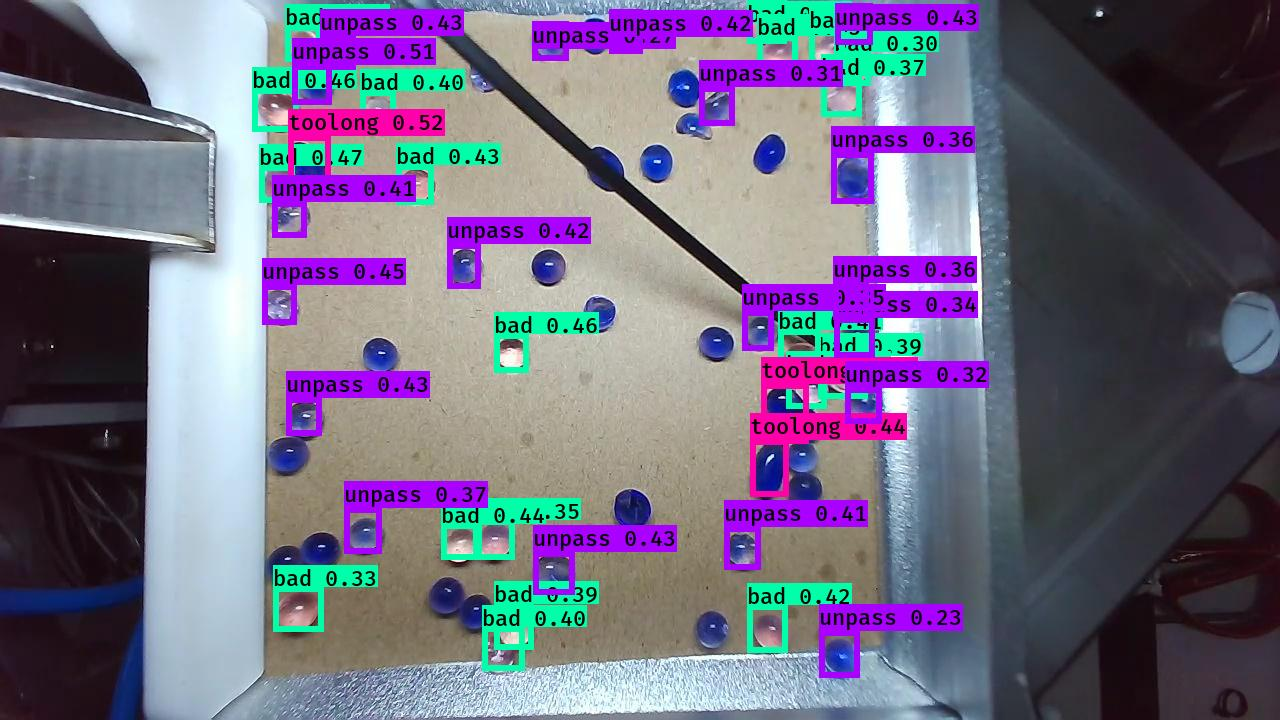bad: (272, 587, 320, 636), (254, 88, 302, 133), (756, 36, 801, 83), (745, 3, 786, 47), (258, 164, 301, 205), (749, 609, 790, 650), (477, 636, 518, 677), (285, 27, 325, 66), (397, 166, 436, 206), (475, 521, 513, 562), (493, 336, 530, 378), (832, 52, 873, 89), (358, 91, 397, 129), (497, 610, 534, 650), (823, 358, 866, 392), (440, 527, 479, 564), (825, 81, 862, 118), (785, 340, 821, 377), (812, 28, 845, 66), (794, 374, 827, 404)
defact: (671, 109, 717, 145)
pass: (612, 486, 657, 538), (530, 250, 573, 292), (259, 542, 301, 585), (300, 529, 340, 572), (361, 336, 400, 380), (426, 576, 468, 616), (665, 67, 704, 110), (458, 591, 495, 636), (693, 610, 733, 651), (580, 291, 619, 333), (640, 145, 678, 186), (741, 309, 779, 350), (786, 472, 823, 514), (696, 324, 733, 364), (750, 133, 787, 173), (832, 285, 874, 320), (578, 16, 612, 54)
toolong: (764, 384, 824, 439), (287, 139, 331, 201), (747, 440, 789, 503)
unpass: (528, 551, 576, 596), (832, 1, 875, 51), (820, 631, 862, 678), (341, 515, 385, 558), (266, 436, 308, 481), (833, 157, 873, 203), (262, 286, 306, 327), (608, 9, 646, 55), (293, 66, 336, 105), (836, 318, 874, 360), (725, 531, 762, 573), (283, 398, 322, 437), (447, 247, 484, 288), (318, 33, 355, 71), (272, 202, 311, 238), (703, 89, 736, 131), (532, 24, 567, 63), (786, 438, 819, 477), (848, 387, 881, 423)
